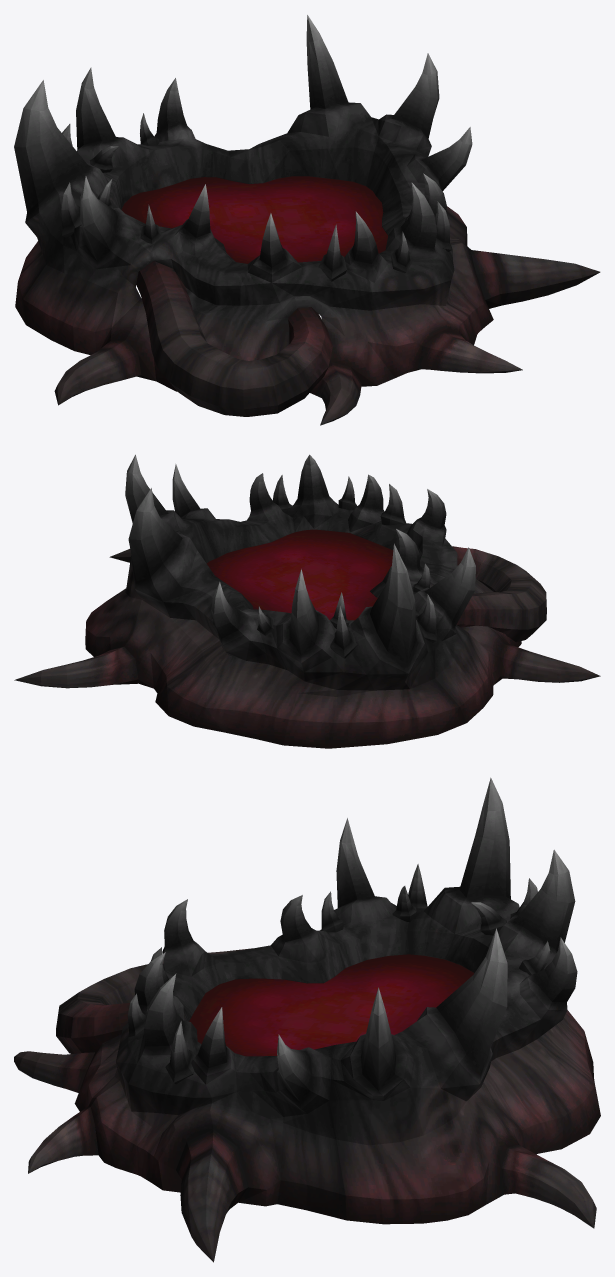
The model's file is SpawnPool.obj.
The picture shows the model from 3 angles, top to bottom: view 1: azimuth 30°, elevation 25°; view 2: azimuth 150°, elevation 25°; view 3: azimuth 270°, elevation 25°; orthographic projection. The views are drawn at different scales.
Visible parts, largest first — view 1: SoA_Spawning_Pool.m3.001; view 2: SoA_Spawning_Pool.m3.001; view 3: SoA_Spawning_Pool.m3.001.
Part boxes in pixels (box(x1,y1,x2,y2)): SoA_Spawning_Pool.m3.001: box(14, 15, 600, 425); SoA_Spawning_Pool.m3.001: box(14, 454, 600, 748); SoA_Spawning_Pool.m3.001: box(14, 777, 600, 1262).
Size of the model in its own units: 3.79 by 1.44 by 3.09.
2 materials, 2 textured.
